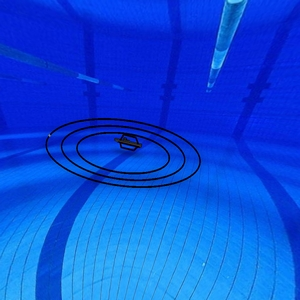circle: (44, 116, 208, 192)
submarine: (114, 132, 144, 155)
